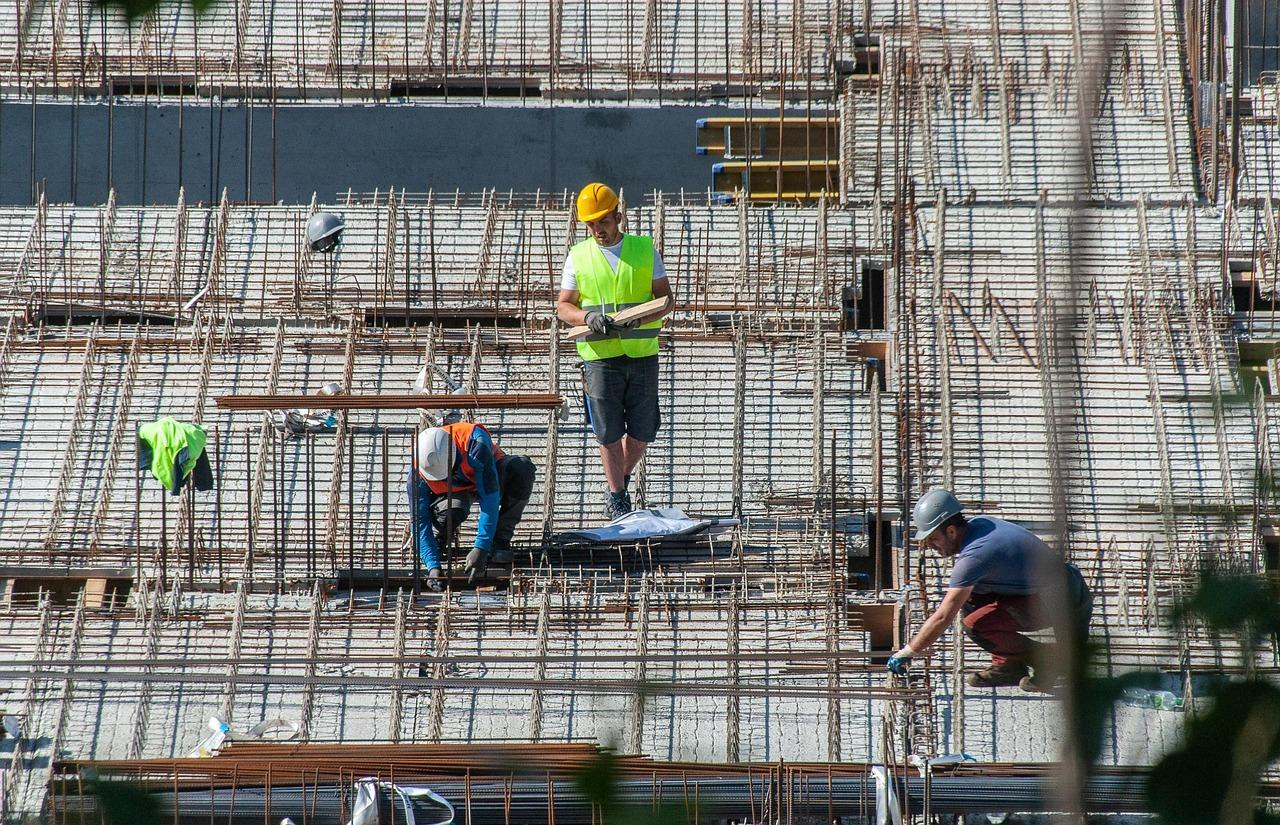capacete: (905, 486, 965, 535), (413, 426, 458, 487), (572, 181, 627, 219)
luca: (463, 542, 493, 590)
luva: (884, 643, 918, 674)
pessoa: (549, 176, 683, 515), (903, 488, 1092, 695), (405, 416, 530, 589)
uniforme seguranca: (573, 237, 674, 371)
